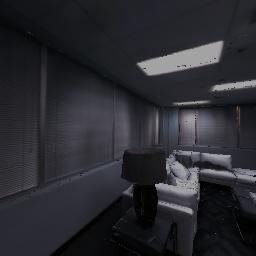sofa: (112, 136, 256, 256)
